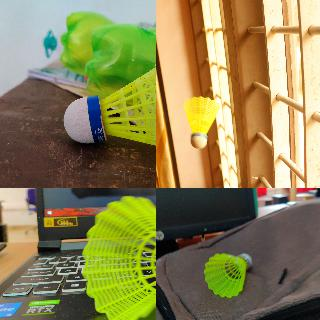shuttlecock: (63, 45, 155, 157), (81, 194, 155, 319), (182, 96, 220, 148), (204, 254, 250, 296)
